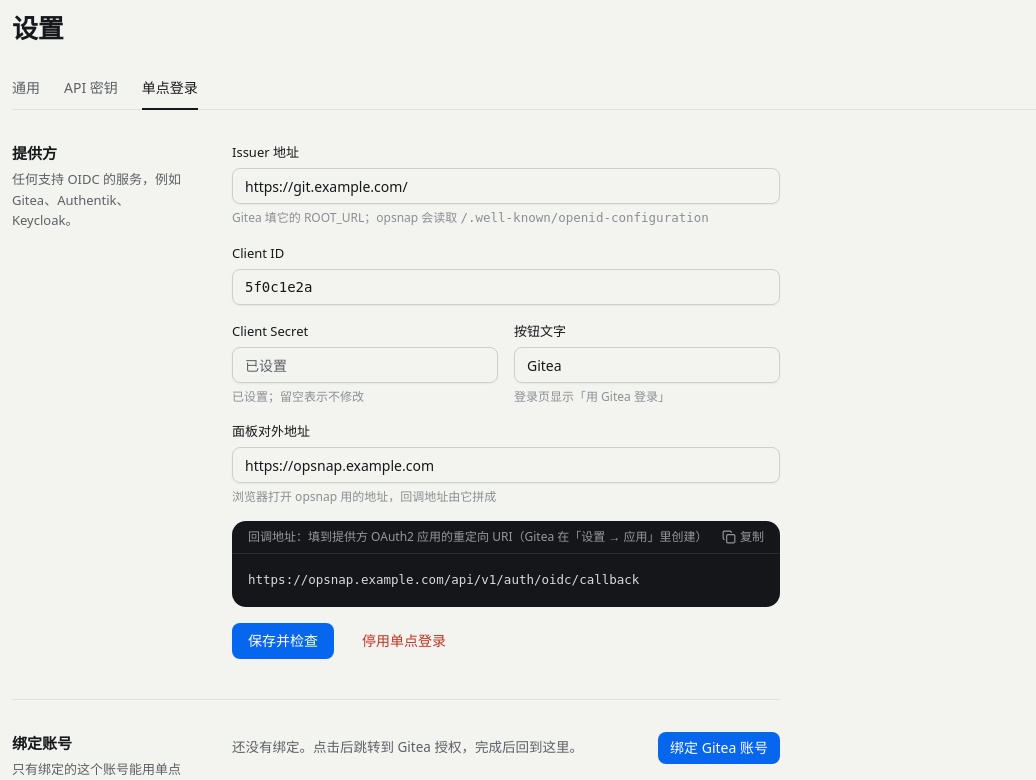
Scenario: 设置 · 单点登录 · 提供方 › 检查失败时显示服务端写明的原因
Click the button "保存并检查" at (283, 641), box [232,623,334,659]
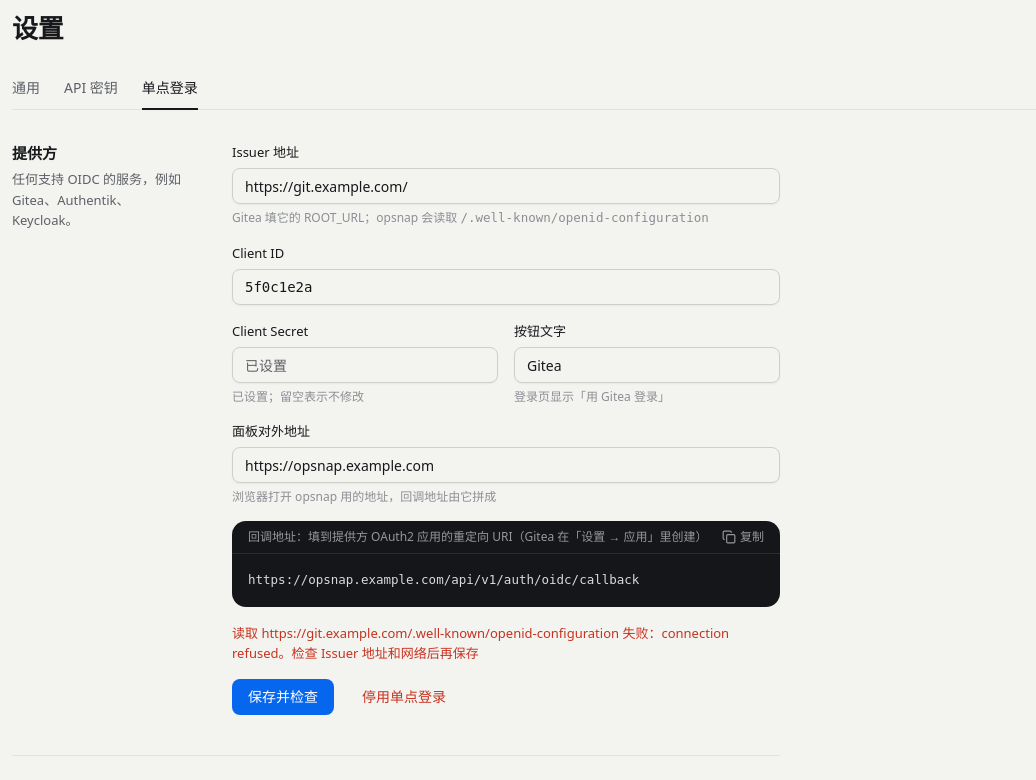
Expected: the message shows "connection refused", [232,624,729,662]
